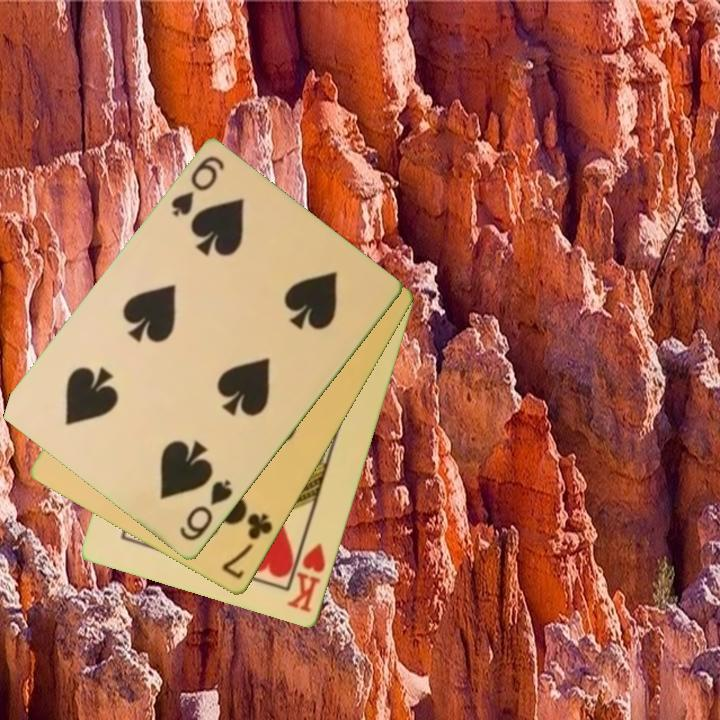6s: (176, 476, 236, 545), (168, 153, 228, 221)
7c: (218, 509, 276, 583)
Kh: (283, 530, 329, 616)
